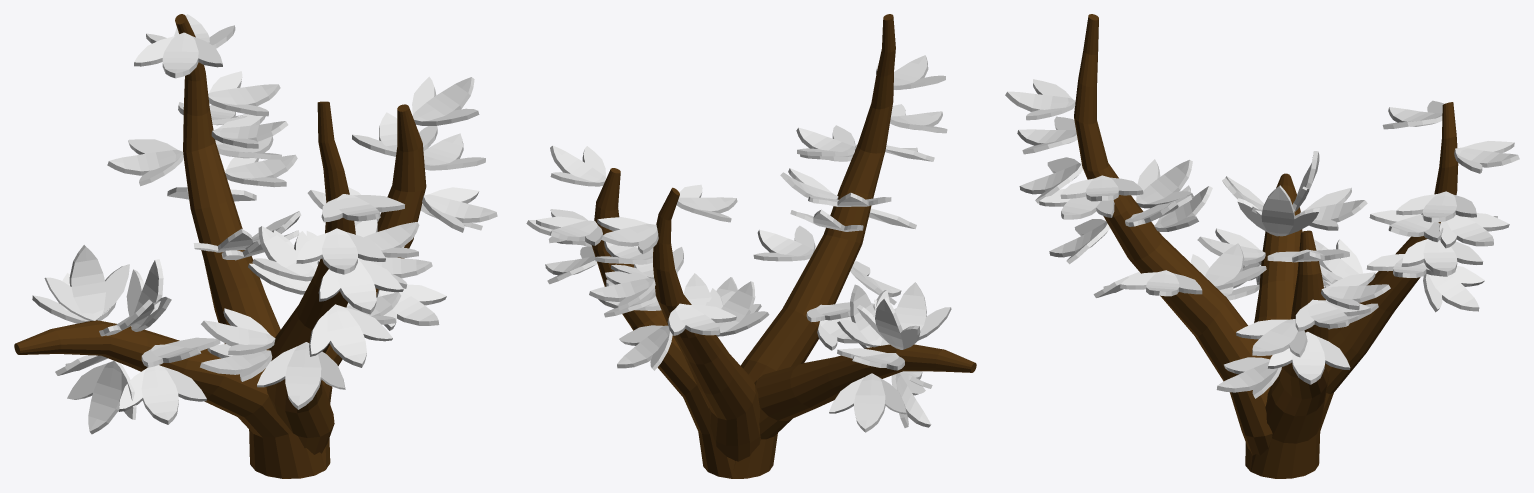
Rendered from Arbusto1Hoja2Otoño.fbx.
3 renders of one model, left to right at view 1: azimuth 30°, elevation 25°; view 2: azimuth 150°, elevation 25°; view 3: azimuth 270°, elevation 25°, orthographic. The views are drawn at different scales.
Parts seen in each view (by area): view 1: RamasArbusto1Hoja2Otoño; view 2: RamasArbusto1Hoja2Otoño; view 3: RamasArbusto1Hoja2Otoño.
Part boxes in pixels (x1,y1,x2,y2): RamasArbusto1Hoja2Otoño: (14,14,497,478); RamasArbusto1Hoja2Otoño: (526,14,976,478); RamasArbusto1Hoja2Otoño: (1005,14,1519,478).
Bounding box in the file's own units: 137 × 124 × 139.
